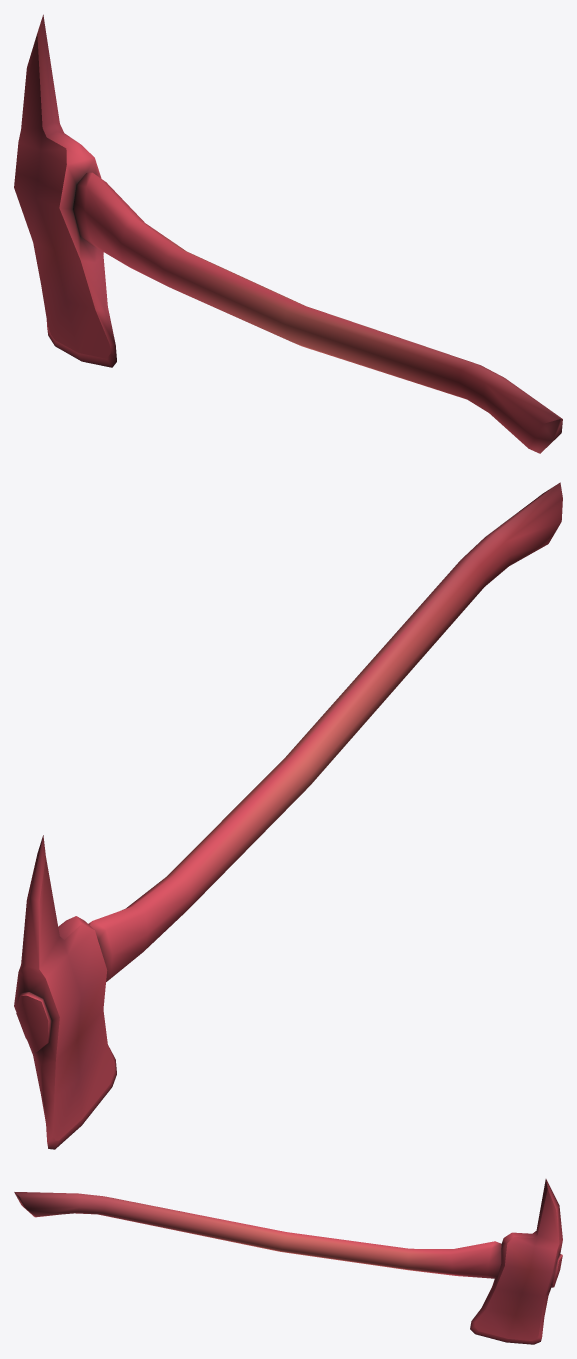
The model's file is axe paint.fbx.
3 views of the same model, one above another, from view 1: azimuth 30°, elevation 25°; view 2: azimuth 150°, elevation 25°; view 3: azimuth 270°, elevation 25° (orthographic). The views are drawn at different scales.
Parts seen in each view (by area): view 1: Axe; view 2: Axe; view 3: Axe.
Part boxes in pixels (x1=…): Axe: x1=14, y1=14, x2=562, y2=453; Axe: x1=14, y1=482, x2=562, y2=1149; Axe: x1=14, y1=1179, x2=562, y2=1344.
Bounding box in the file's own units: 4.27 × 27.59 × 82.45.
